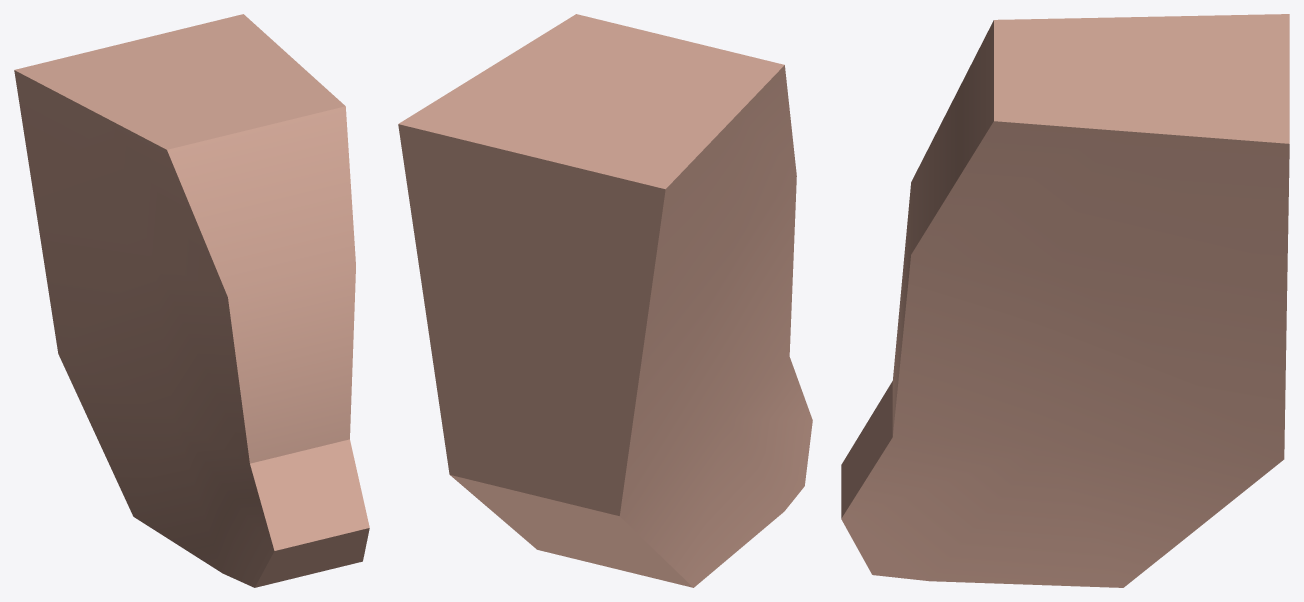
File: Nariz_Campana.fbx
3 renders of one model, left to right at view 1: azimuth 30°, elevation 25°; view 2: azimuth 150°, elevation 25°; view 3: azimuth 270°, elevation 25°, orthographic. The views are drawn at different scales.
Parts seen in each view (by area): view 1: Nariz_Campana; view 2: Nariz_Campana; view 3: Nariz_Campana.
Boxes of the visible parts, left/top/right/bottom form: Nariz_Campana: left=14, top=14, right=369, bottom=587; Nariz_Campana: left=398, top=14, right=812, bottom=587; Nariz_Campana: left=841, top=14, right=1289, bottom=587.
Size of the model in its own units: 0.4438 by 0.7637 by 0.6476.
